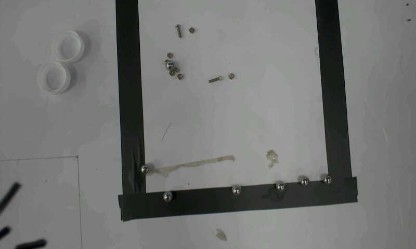ironball: (162, 190, 172, 202), (322, 174, 332, 185), (230, 185, 240, 195), (139, 164, 149, 174), (275, 182, 286, 191), (299, 176, 308, 186), (165, 61, 174, 69)
